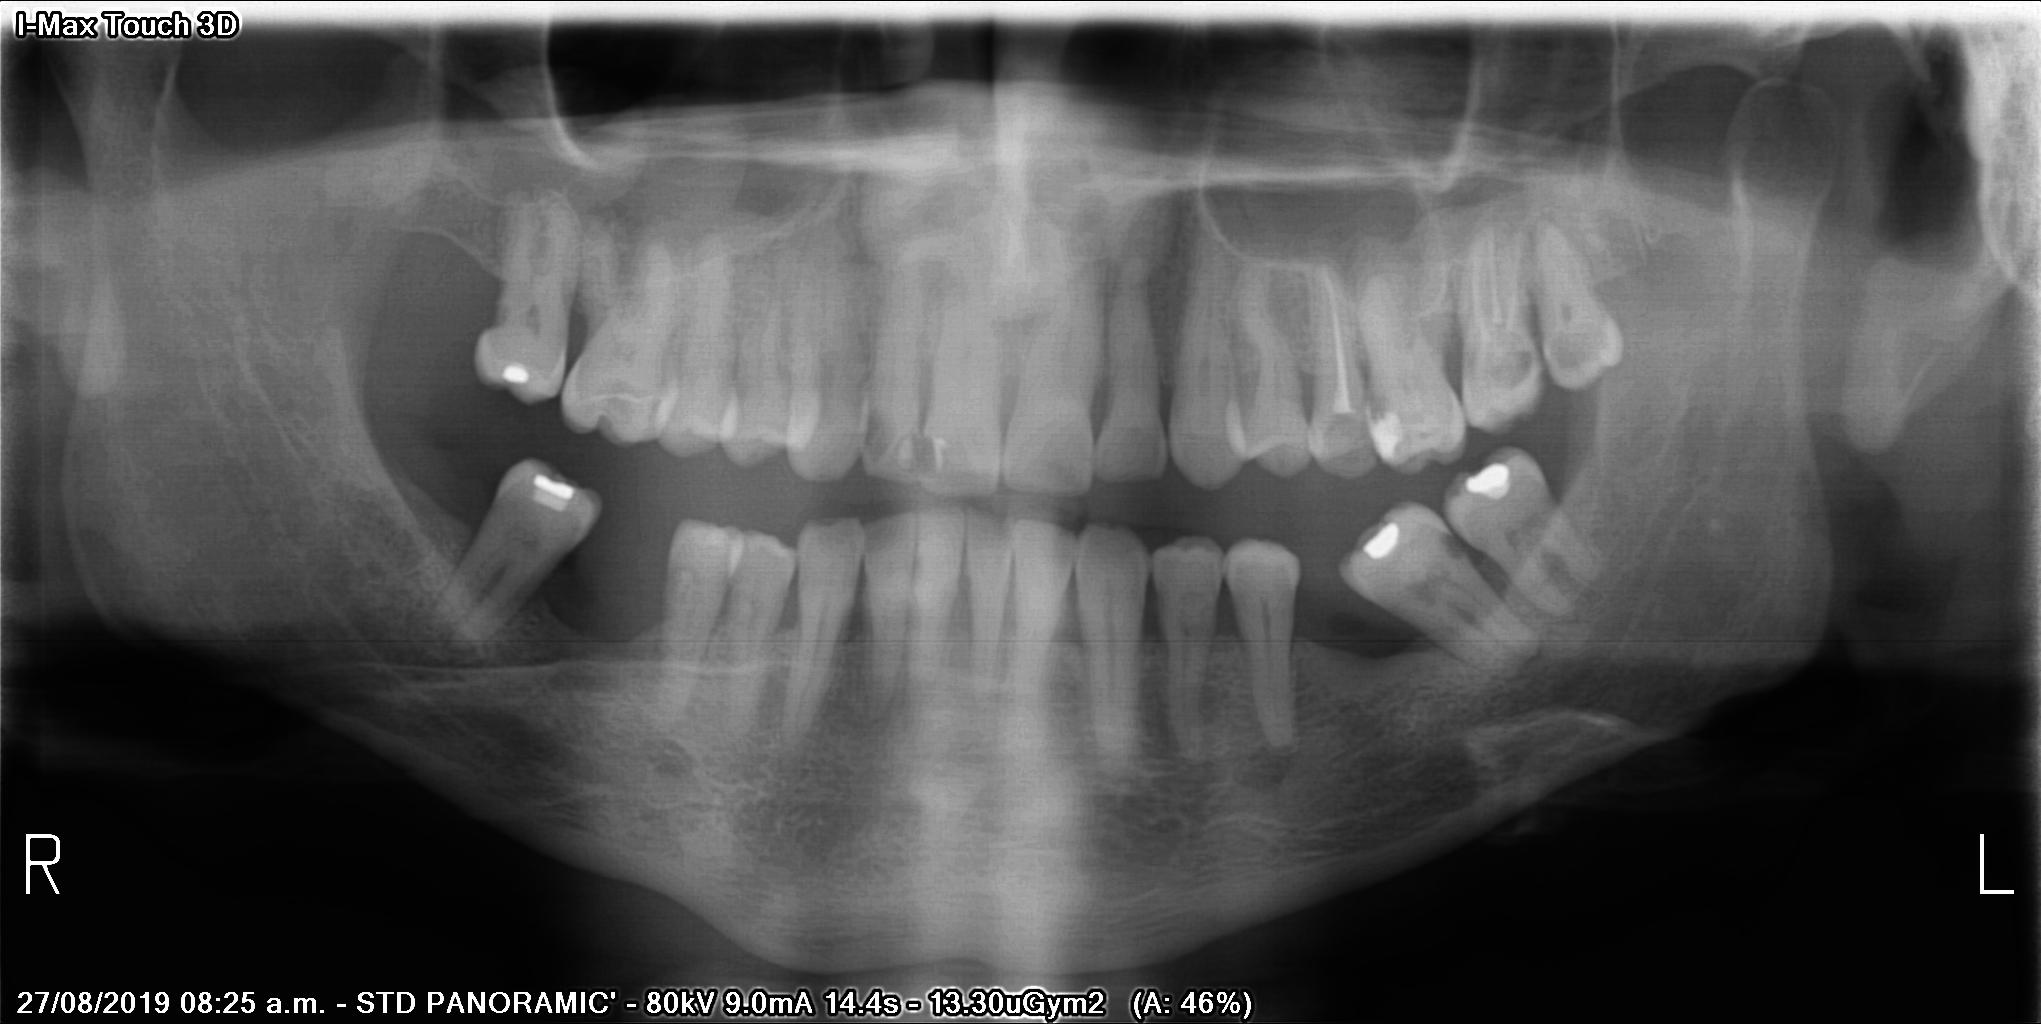Çürük: (1344, 508, 1416, 571), (1452, 451, 1529, 506), (520, 460, 583, 520), (1365, 413, 1413, 465), (494, 350, 540, 392)
Çürük Bölgesi: (1553, 320, 1616, 368), (1364, 388, 1402, 426), (1497, 354, 1531, 394), (906, 438, 940, 476), (1442, 526, 1469, 564)
